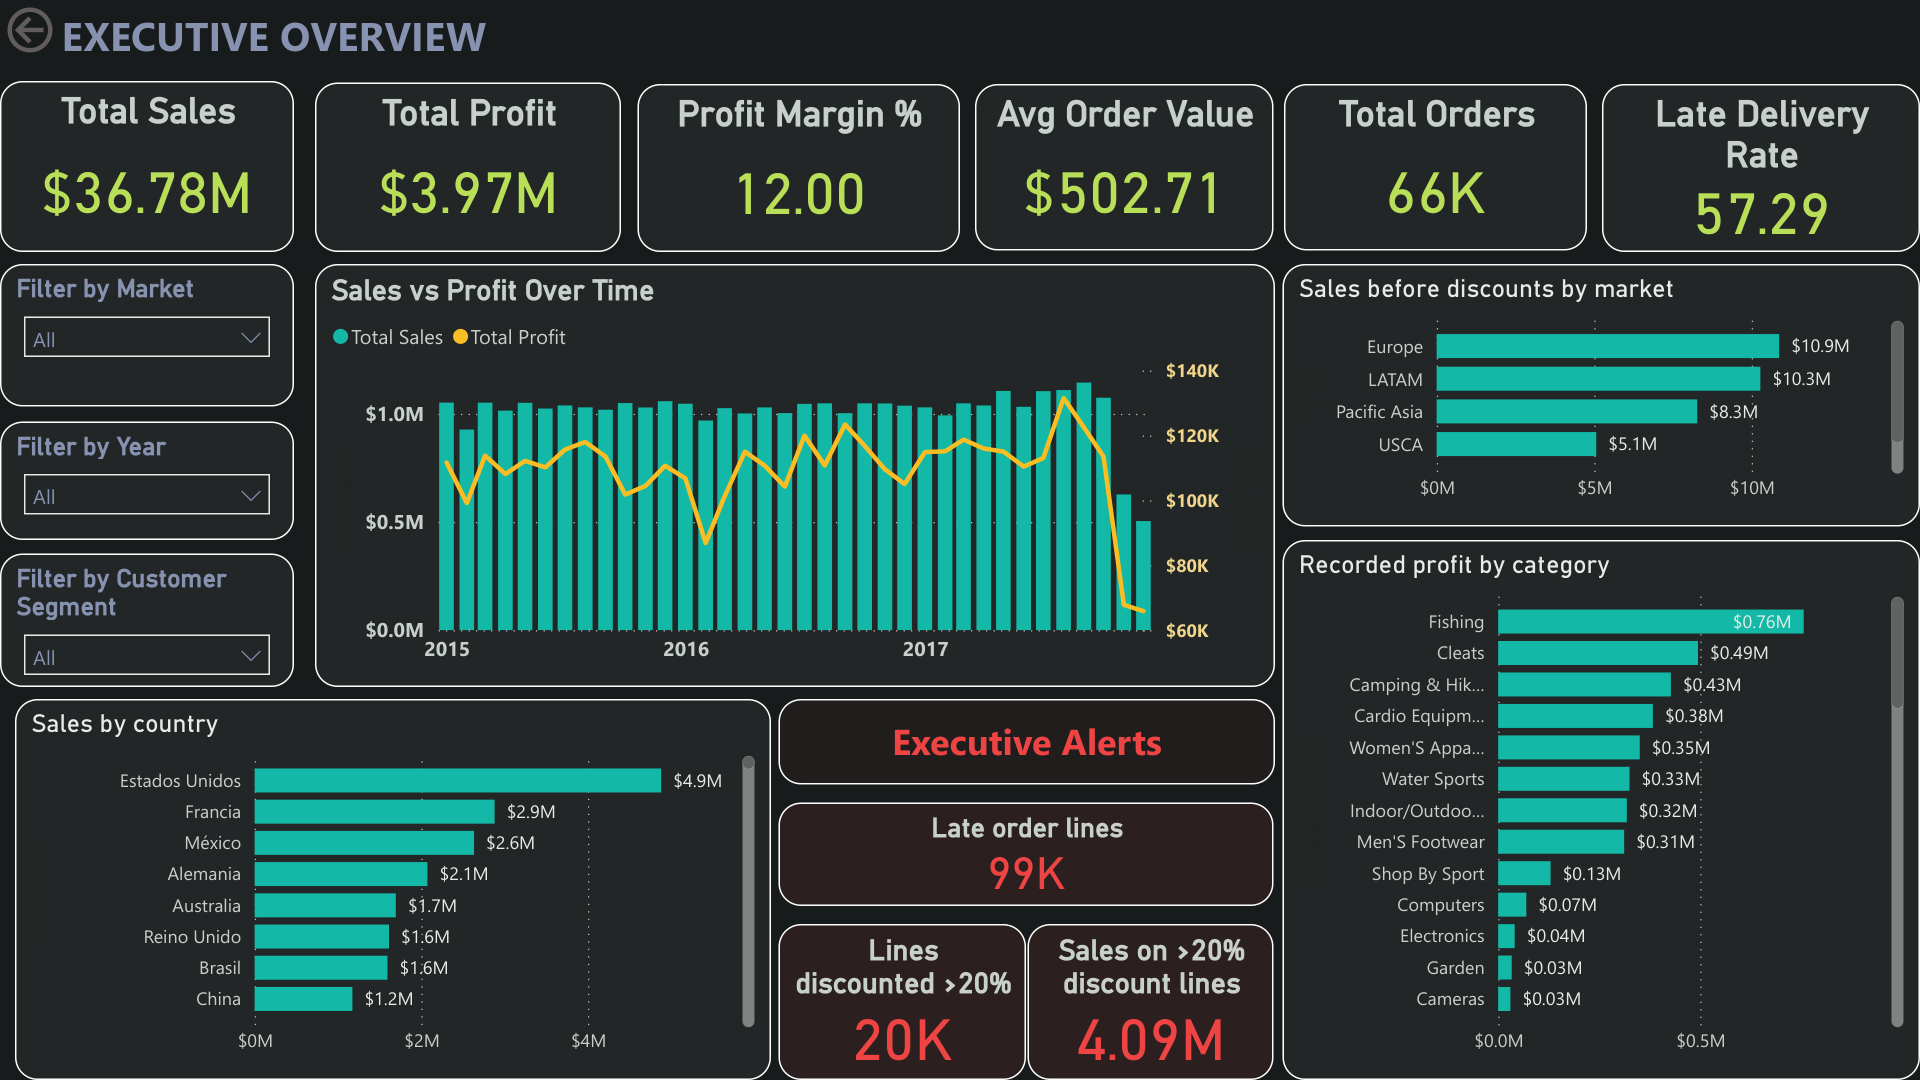

The page's visual inventory and layout, read from the dashboard file:
{"tool":"powerbi","page":{"name":"Executive Overview","canvas":[1280,720],"ordinal":1},"visuals":[{"type":"card","title":"Total Sales","fields":{"Values":["FactOrderItem.Total Sales"]},"box":[0,53.8,196.2,113.8],"z":0},{"type":"card","title":"Total Profit","fields":{"Values":["FactOrderItem.Total Profit"]},"box":[210,55,203.8,112.5],"z":1000},{"type":"card","title":"Profit Margin %","fields":{"Values":["FactOrderItem.Profit Margin %"]},"box":[425,56.2,215,111.2],"z":2000},{"type":"card","title":"Avg Order Value","fields":{"Values":["FactOrderItem.Avg Order Value"]},"box":[650,55.8,198.8,111.6],"z":3000},{"type":"card","title":"Total Orders","fields":{"Values":["FactOrderItem.Total Orders"]},"box":[855.8,55.8,202.3,111.6],"z":4000},{"type":"card","title":"Late Delivery Rate","fields":{"Values":["FactOrderItem.Late Delivery Rate"]},"box":[1067.5,56.2,212.5,111.2],"z":5000},{"type":"lineClusteredColumnComboChart","title":"Sales vs Profit Over Time","fields":{"Y":["FactOrderItem.Total Sales"],"Y2":["FactOrderItem.Total Profit"],"Category":["DimDate.MonthYear"]},"box":[210,176.2,640,281.2],"z":6000},{"type":"clusteredBarChart","title":"Sales before discounts by market","fields":{"Category":["DimLocation.Market"],"Y":["FactOrderItem.Total Sales"]},"box":[855,176.2,425,175],"z":7000},{"type":"clusteredBarChart","title":"Recorded profit by category","fields":{"Category":["DimProduct.CategoryName"],"Y":["FactOrderItem.Total Profit"]},"box":[855,360,425,360],"z":8000},{"type":"card","title":"Late order lines","fields":{"Values":["FactOrderItem.Late Delivery Count"]},"box":[519,535,330,68.8],"z":9000},{"type":"card","title":"Sales on >20% discount lines","fields":{"Values":["FactOrderItem.High Discount Orders Impact"]},"box":[685.2,616.2,163.8,103.8],"z":10000},{"type":"card","title":"Lines discounted >20%","fields":{"Values":["FactOrderItem.High Discount Orders"]},"box":[518.6,616.3,165.1,103.5],"z":11000},{"type":"textbox","box":[519,466.2,331.2,56.2],"z":12000},{"type":"textbox","box":[36.2,0,378.8,46.2],"z":13000},{"type":"slicer","title":"Filter by Market","fields":{"Values":["DimLocation.Market"]},"box":[0,176.2,196.2,95],"z":14000},{"type":"slicer","title":"Filter by Year","fields":{"Values":["DimDate.Year"]},"box":[0,281.2,196.2,78.8],"z":15000},{"type":"slicer","title":"Filter by Customer Segment","fields":{"Values":["DimCustomer.CustomerSegment"]},"box":[0,368.8,196.2,88.8],"z":16000},{"type":"clusteredBarChart","title":"Sales by country","fields":{"Category":["DimLocation.OrderCountry"],"Y":["FactOrderItem.Total Sales"]},"box":[10,466.2,503.8,253.8],"z":17000},{"type":"actionButton","box":[0,0,100,40],"z":18000}]}

Visuals, with their boxes in screenshot pixels (x1, y1, x2, y2), scaled from the page's 1280x720 canvas onto the 1920x1080 screenshot:
"Total Sales" card: {"x1": 0, "y1": 81, "x2": 294, "y2": 251}
"Total Profit" card: {"x1": 315, "y1": 82, "x2": 621, "y2": 251}
"Profit Margin %" card: {"x1": 638, "y1": 84, "x2": 960, "y2": 251}
"Avg Order Value" card: {"x1": 975, "y1": 84, "x2": 1273, "y2": 251}
"Total Orders" card: {"x1": 1284, "y1": 84, "x2": 1587, "y2": 251}
"Late Delivery Rate" card: {"x1": 1601, "y1": 84, "x2": 1919, "y2": 251}
"Sales vs Profit Over Time" lineClusteredColumnComboChart: {"x1": 315, "y1": 264, "x2": 1275, "y2": 686}
"Sales before discounts by market" clusteredBarChart: {"x1": 1282, "y1": 264, "x2": 1919, "y2": 527}
"Recorded profit by category" clusteredBarChart: {"x1": 1282, "y1": 540, "x2": 1919, "y2": 1079}
"Late order lines" card: {"x1": 778, "y1": 802, "x2": 1274, "y2": 906}
"Sales on >20% discount lines" card: {"x1": 1028, "y1": 924, "x2": 1274, "y2": 1079}
"Lines discounted >20%" card: {"x1": 778, "y1": 924, "x2": 1026, "y2": 1079}
textbox: {"x1": 778, "y1": 699, "x2": 1275, "y2": 784}
textbox: {"x1": 54, "y1": 0, "x2": 622, "y2": 69}
"Filter by Market" slicer: {"x1": 0, "y1": 264, "x2": 294, "y2": 407}
"Filter by Year" slicer: {"x1": 0, "y1": 422, "x2": 294, "y2": 540}
"Filter by Customer Segment" slicer: {"x1": 0, "y1": 553, "x2": 294, "y2": 686}
"Sales by country" clusteredBarChart: {"x1": 15, "y1": 699, "x2": 771, "y2": 1079}
actionButton: {"x1": 0, "y1": 0, "x2": 150, "y2": 60}
